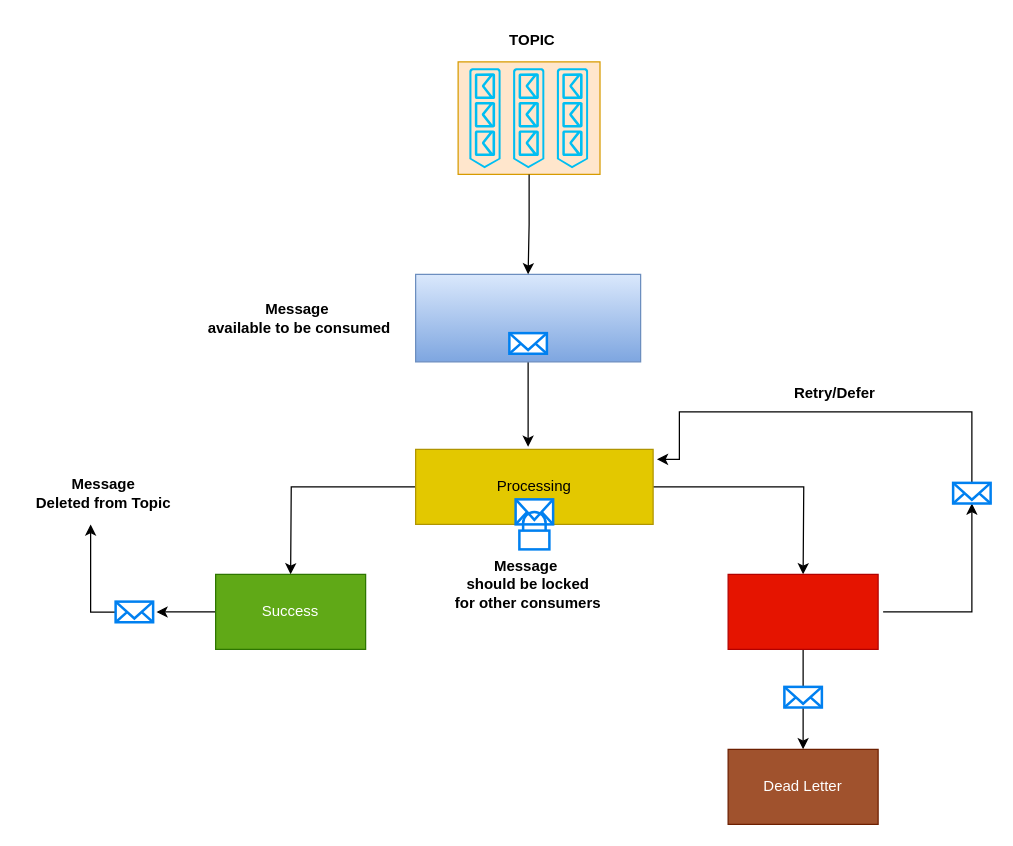
This 1013x846 diagram has some shape labels left out. The shapes that lost their labels are listed below. From the top down, each one's box as (x1, y1, x2, y2) in pixels, then its label:
(414, 273, 641, 362): Available
(727, 573, 878, 649): Failure
